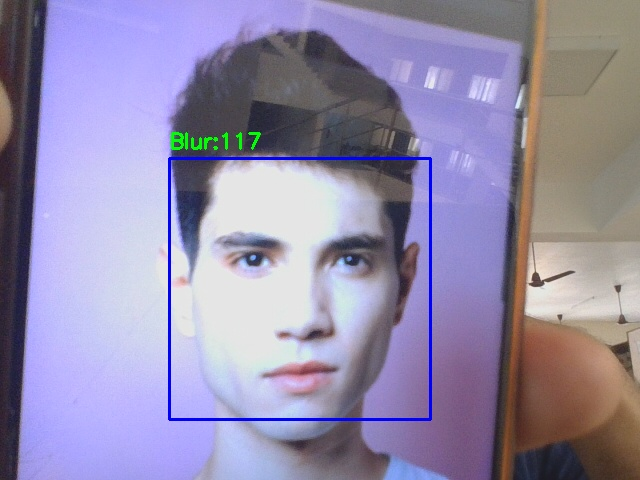fake: (169, 158, 430, 419)
